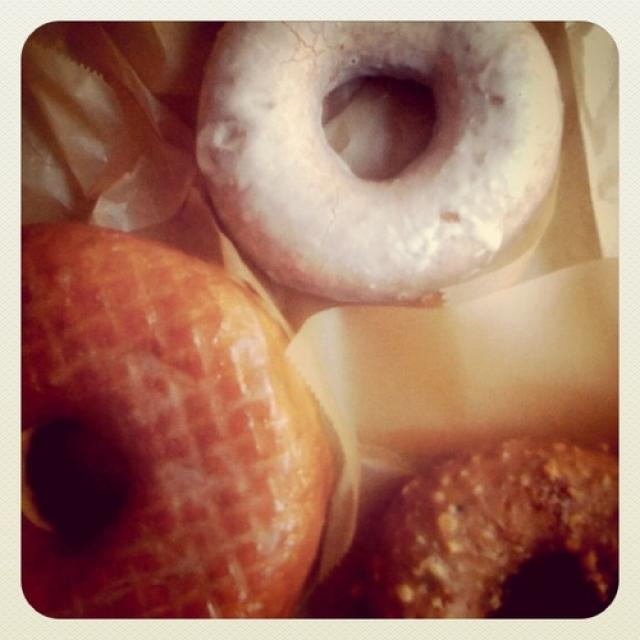炸货点心: (40, 34, 598, 592)
